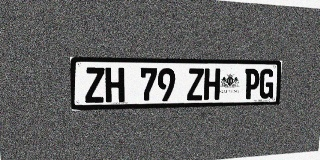7: (139, 68, 157, 102)
9: (158, 68, 175, 101)
G: (259, 69, 275, 99)
H: (105, 67, 124, 102), (204, 68, 220, 100)
P: (244, 69, 260, 99)
Z: (84, 67, 105, 103), (187, 68, 204, 100)
